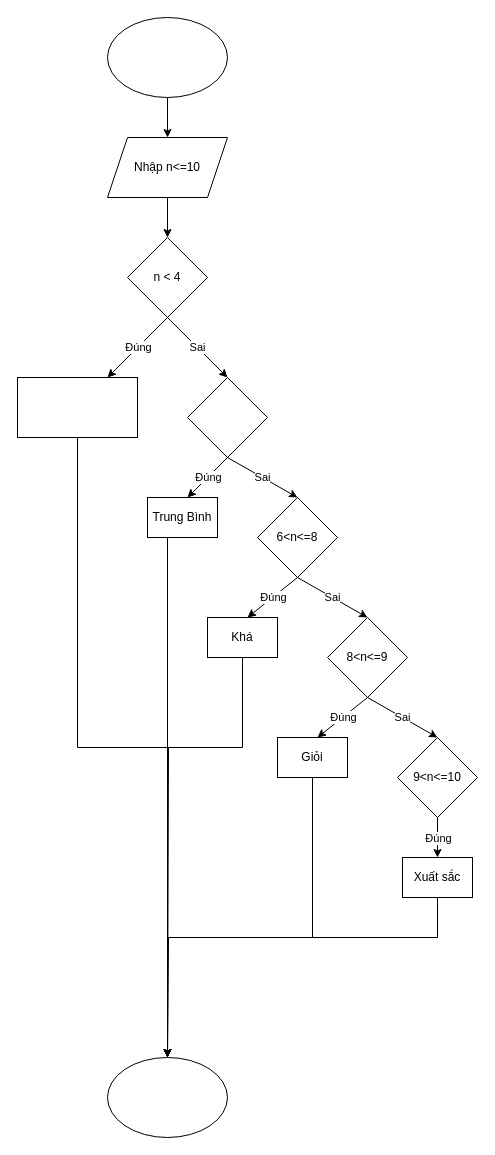
Some shapes in this 495 by 1155 pixel diagram are drawn without their labels. Here are the shapes that lost their labels. From the top down, the box of each, then its label:
(106, 16, 228, 98): Bắt đầu
(16, 376, 138, 438): Không đạt
(186, 376, 268, 458): 4<=n<=6
(106, 1056, 228, 1138): Kết thúc
